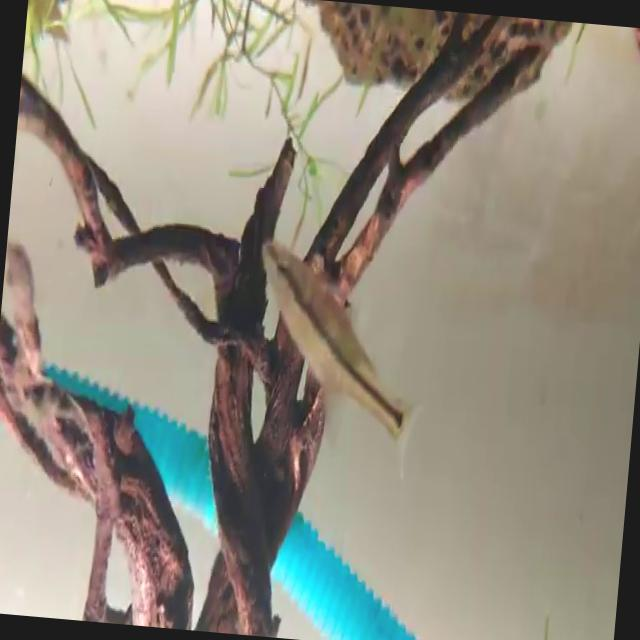Cakil Baligi: (244, 239, 421, 482)
